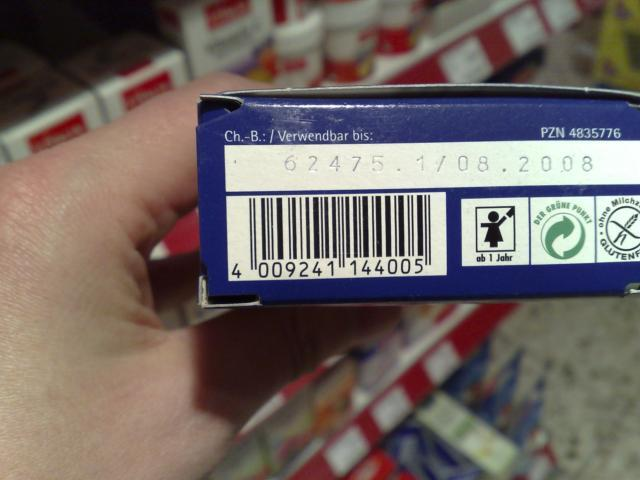Barcode: (225, 192, 448, 281)
